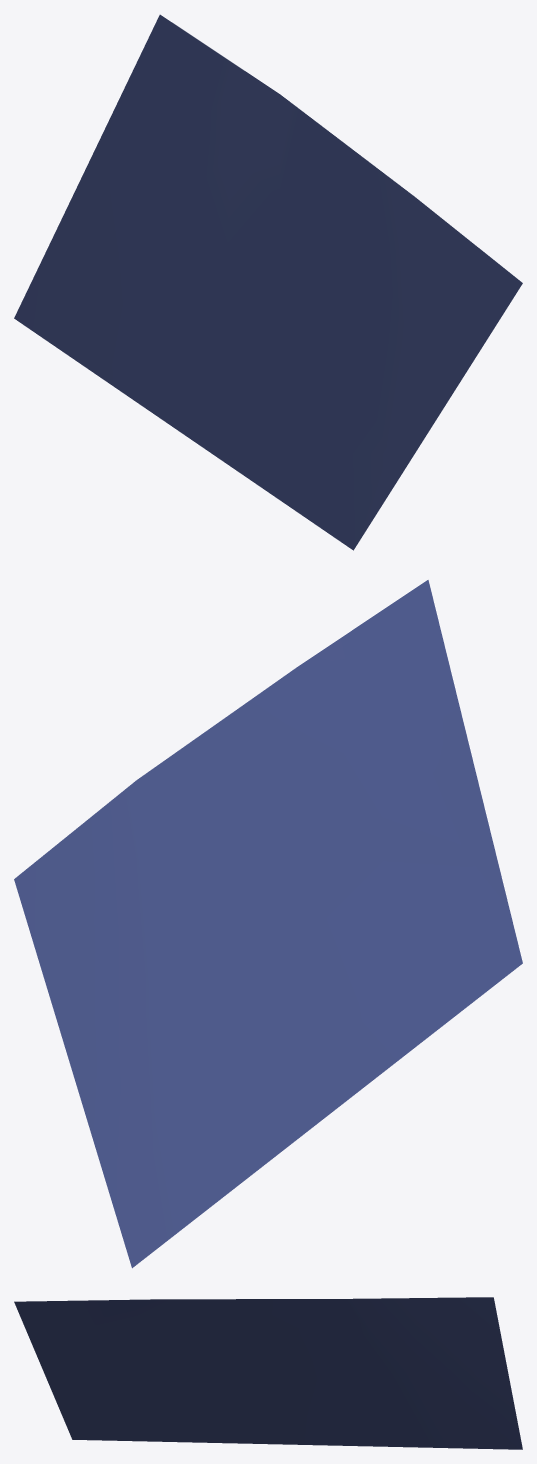
File: Muscle_2_DoorGlass_L_Tesselated.fbx
The picture shows the model from 3 angles, top to bottom: view 1: azimuth 30°, elevation 25°; view 2: azimuth 150°, elevation 25°; view 3: azimuth 270°, elevation 25°; orthographic projection. The views are drawn at different scales.
Visible parts, largest first — view 1: Muscle_2_DoorGlass_L_Tesselated; view 2: Muscle_2_DoorGlass_L_Tesselated; view 3: Muscle_2_DoorGlass_L_Tesselated.
Boxes of the visible parts, x1,y1,x2,y2 form: Muscle_2_DoorGlass_L_Tesselated: (14,14,522,550); Muscle_2_DoorGlass_L_Tesselated: (14,580,522,1268); Muscle_2_DoorGlass_L_Tesselated: (14,1297,522,1449).
Bounding box in the file's own units: 12.9 × 27.3 × 65.09.
